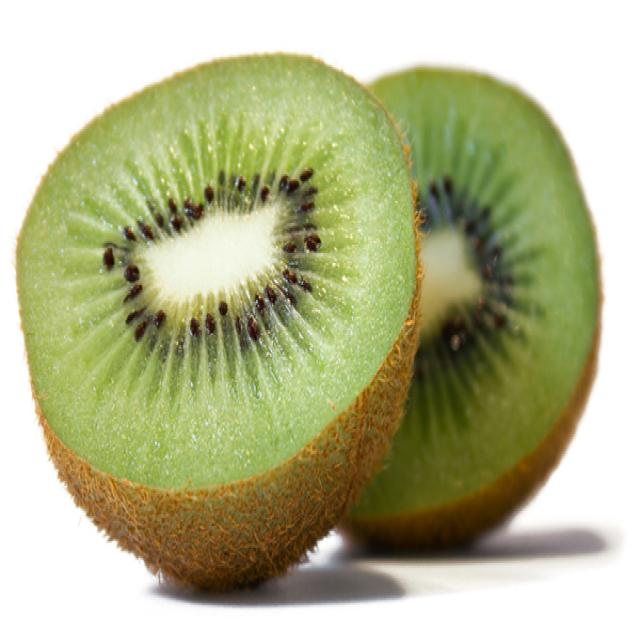Chilli Pepper: (17, 47, 423, 598), (296, 65, 596, 575)
